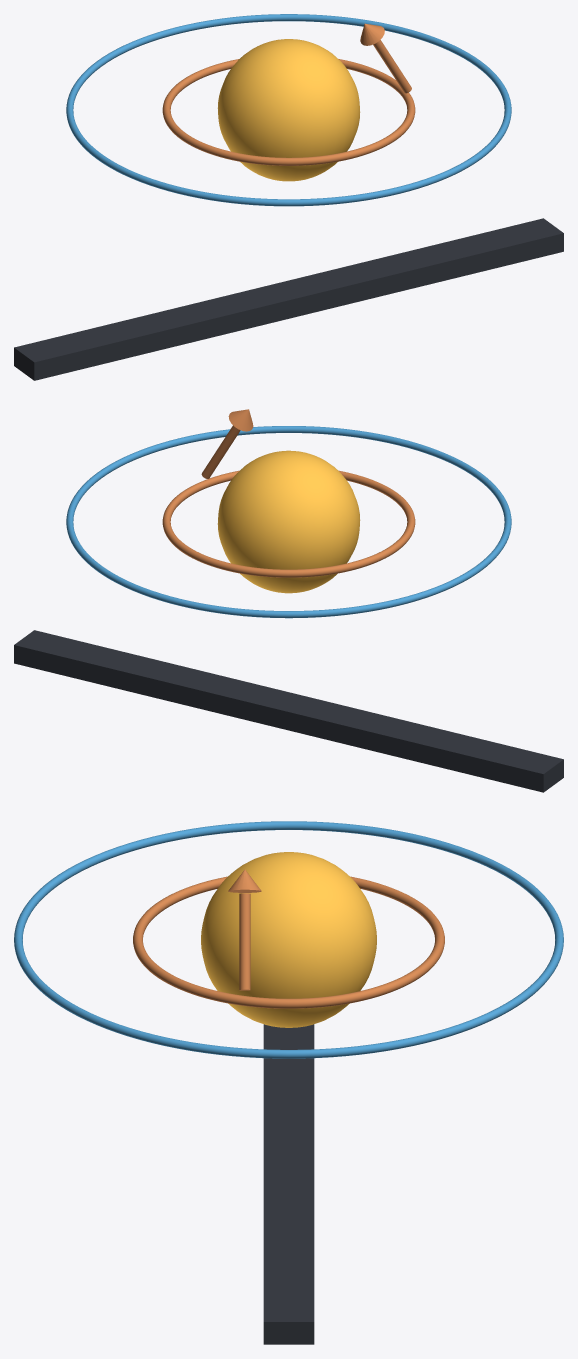
File: space-orbital-speed.glb
The picture shows the model from 3 angles, top to bottom: view 1: azimuth 30°, elevation 25°; view 2: azimuth 150°, elevation 25°; view 3: azimuth 270°, elevation 25°; orthographic projection. The views are drawn at different scales.
Parts seen in each view (by area): view 1: gravity-orbit-bench, central-mass-speed-world, far-slower-orbit, close-fast-orbit, speed-meter-fast-close-shaft; view 2: gravity-orbit-bench, central-mass-speed-world, far-slower-orbit, close-fast-orbit, speed-meter-fast-close-shaft; view 3: central-mass-speed-world, gravity-orbit-bench, far-slower-orbit, close-fast-orbit, speed-meter-fast-close-shaft.
Boxes of the visible parts, x1,y1,x2,y2 form: gravity-orbit-bench: (14,218,563,380); central-mass-speed-world: (217,39,360,181); far-slower-orbit: (66,14,511,206); close-fast-orbit: (162,59,415,165); speed-meter-fast-close-shaft: (373,40,411,93); gravity-orbit-bench: (14,630,563,792); central-mass-speed-world: (217,450,360,593); far-slower-orbit: (66,426,511,618); close-fast-orbit: (162,470,415,577); speed-meter-fast-close-shaft: (201,425,240,478); central-mass-speed-world: (201,852,376,1027); gravity-orbit-bench: (263,1024,314,1344); far-slower-orbit: (14,821,563,1058); close-fast-orbit: (133,876,444,1008); speed-meter-fast-close-shaft: (239,893,250,990).
Size of what is drawn, in the model's own units: 2.4 by 1.23 by 1.75.
